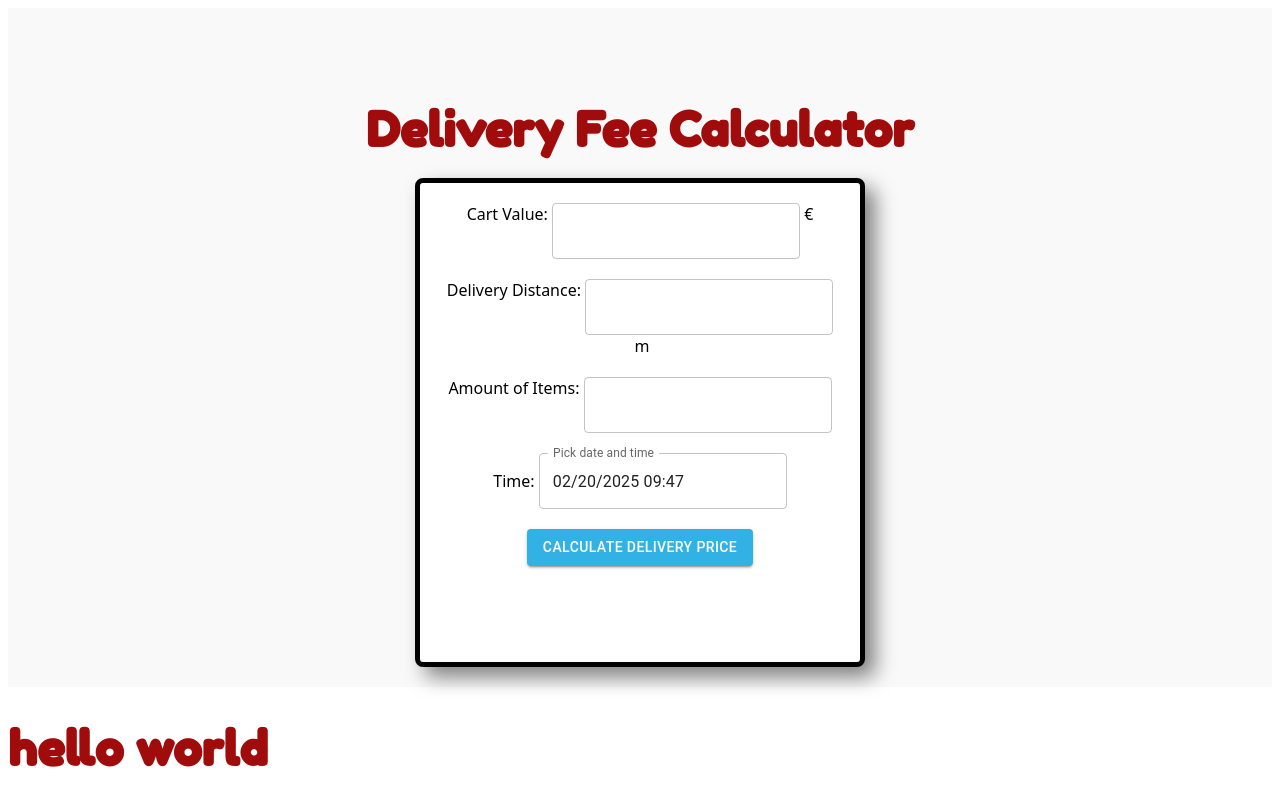
Delivery Fee Calculator Tests › shows error messages for invalid inputs
The width and height of the screenshot is (1280, 800).
Type "9999999" into the element with test id "cart-value" next to "Cart Value:". click: coordinates (676, 231)
box: [552, 203, 800, 259]
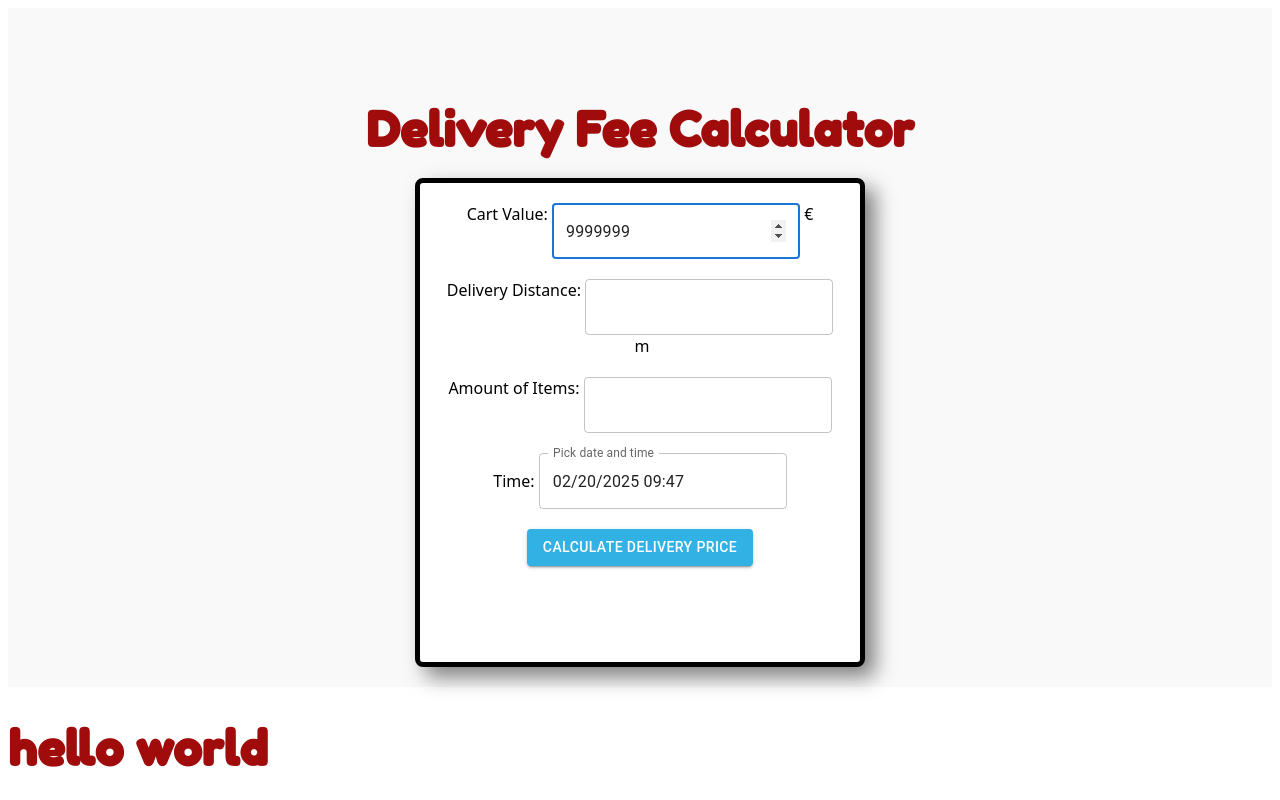
Click the element that starts with "Delivery Fee Calculator". click: coordinates (8, 8)
box: [8, 8, 1272, 799]
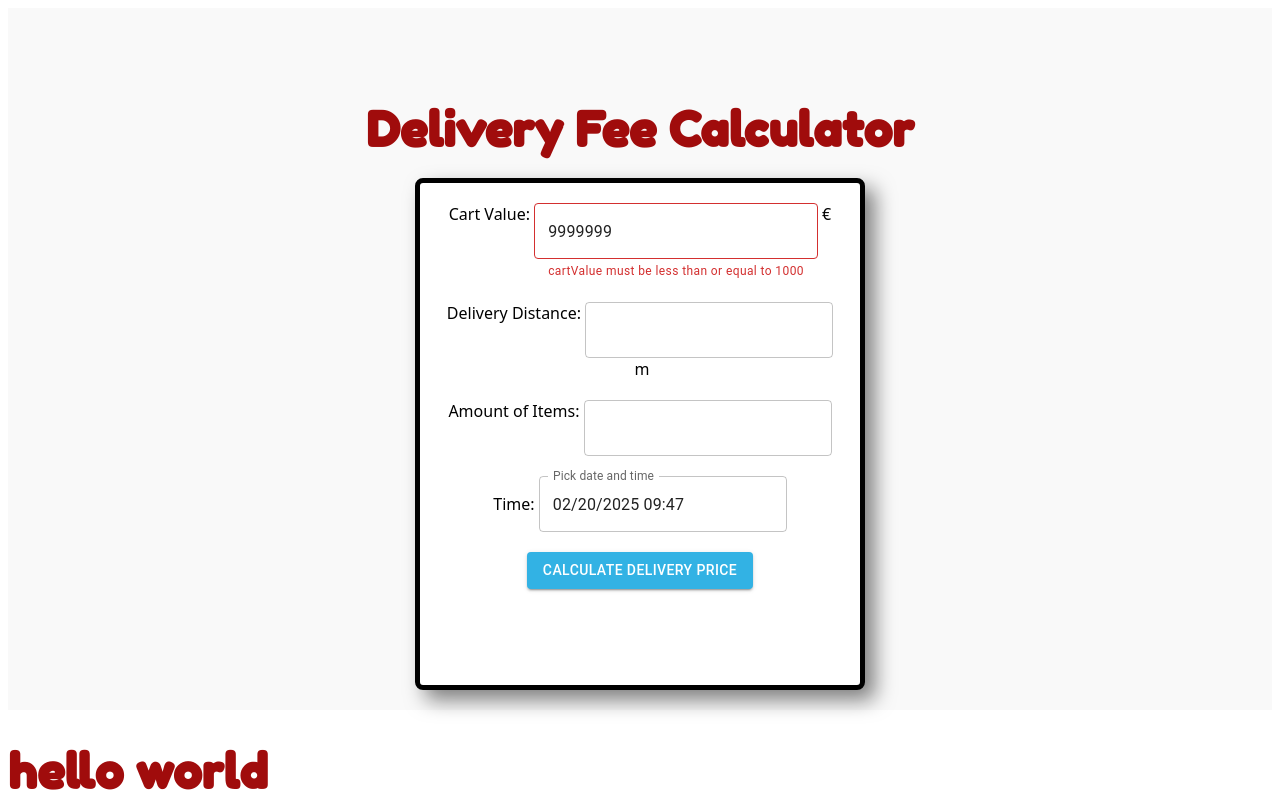
Check: the text "cartValue must be less than or equal to 1000" is shown, box [548, 262, 804, 282]
Type "12000" into the element with test id "delivery-distance" next to "Delivery Distance:". click: coordinates (709, 330)
box: [585, 302, 833, 358]
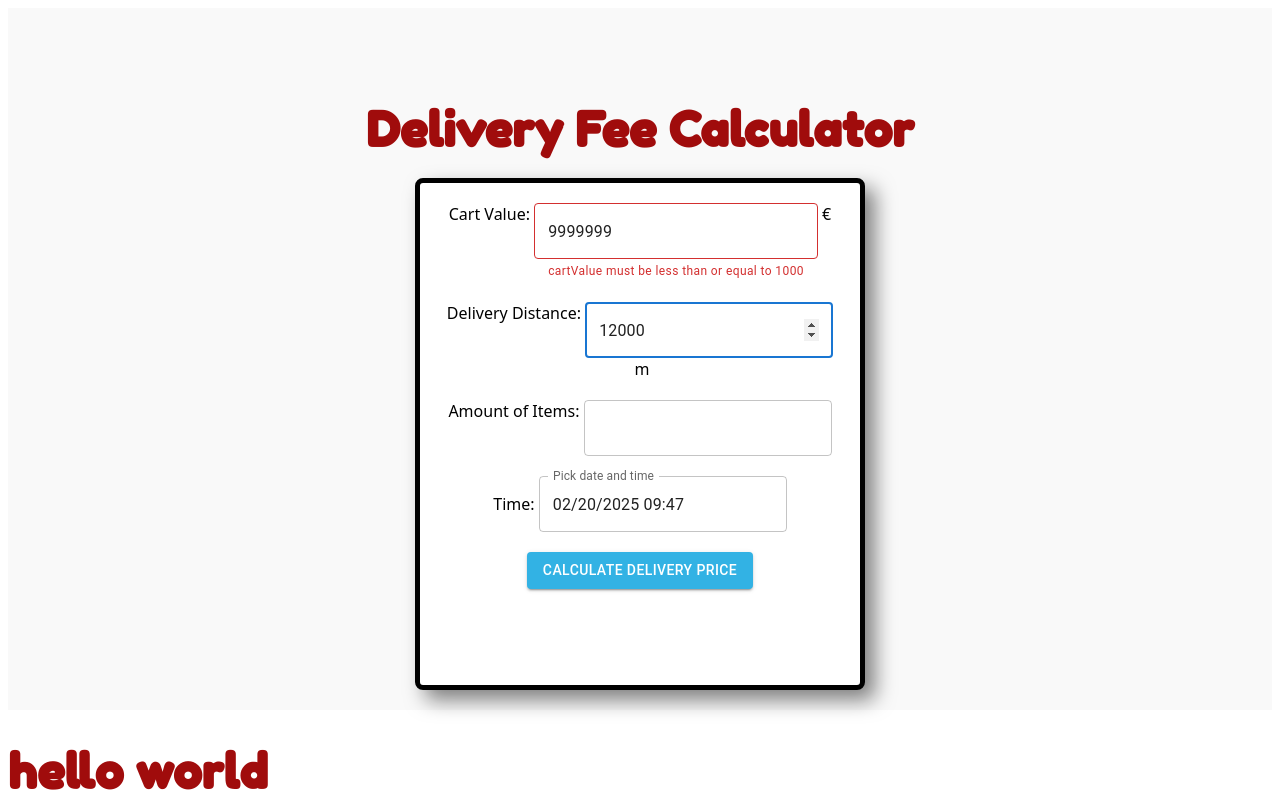
Click the element that starts with "Delivery Fee Calculator". click: coordinates (8, 8)
box: [8, 8, 1272, 799]
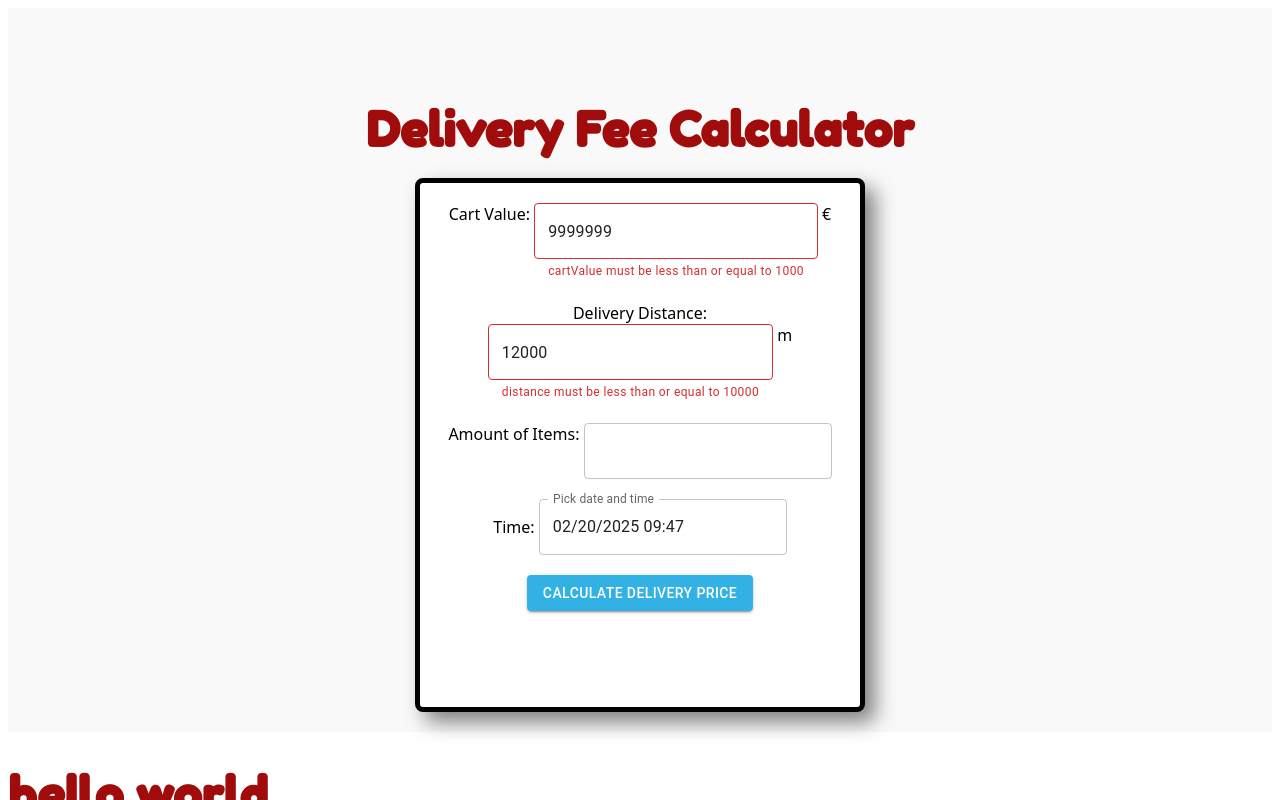
Check: the text "distance must be less than or equal to 10000" is shown, box [502, 383, 759, 403]
Type "30" into the element with test id "amount-of-items" next to "Amount of Items:". click: coordinates (708, 451)
box: [584, 423, 832, 479]
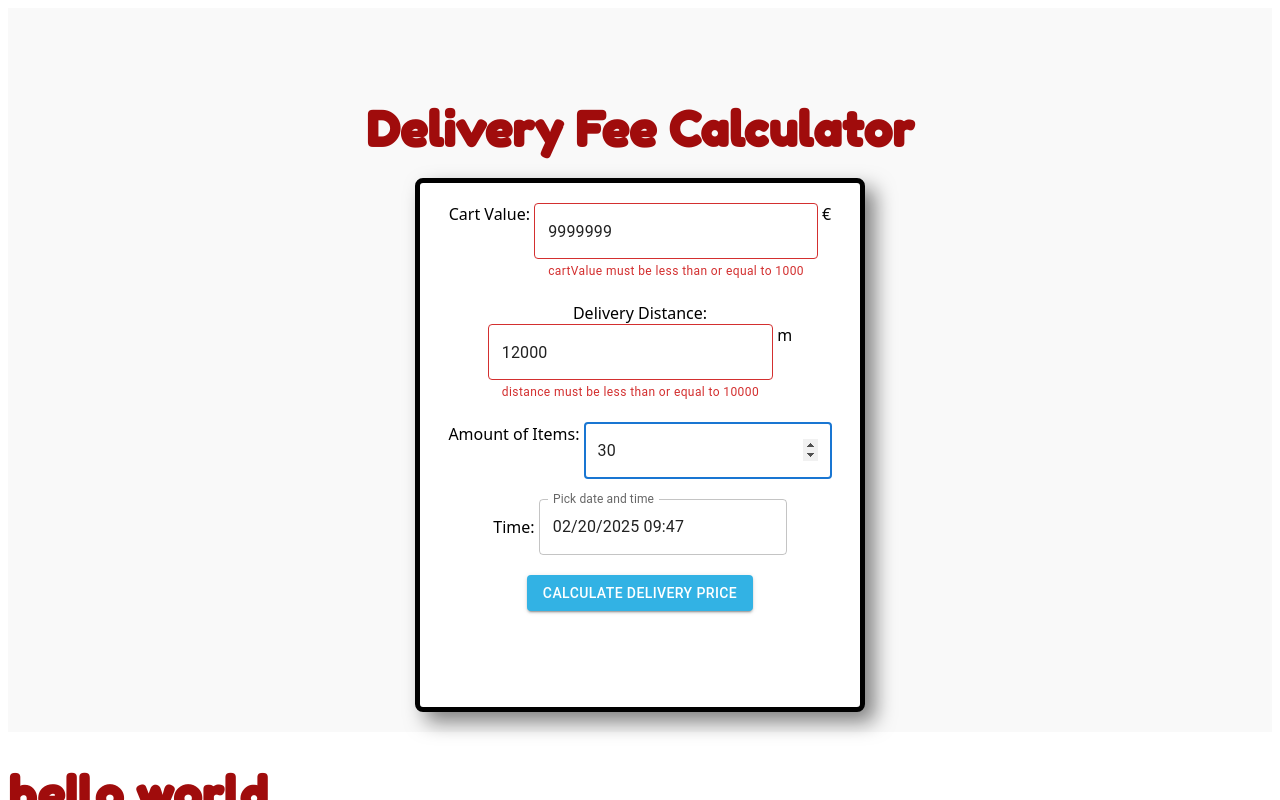
Click the element that starts with "Delivery Fee Calculator". click: coordinates (8, 8)
box: [8, 8, 1272, 799]
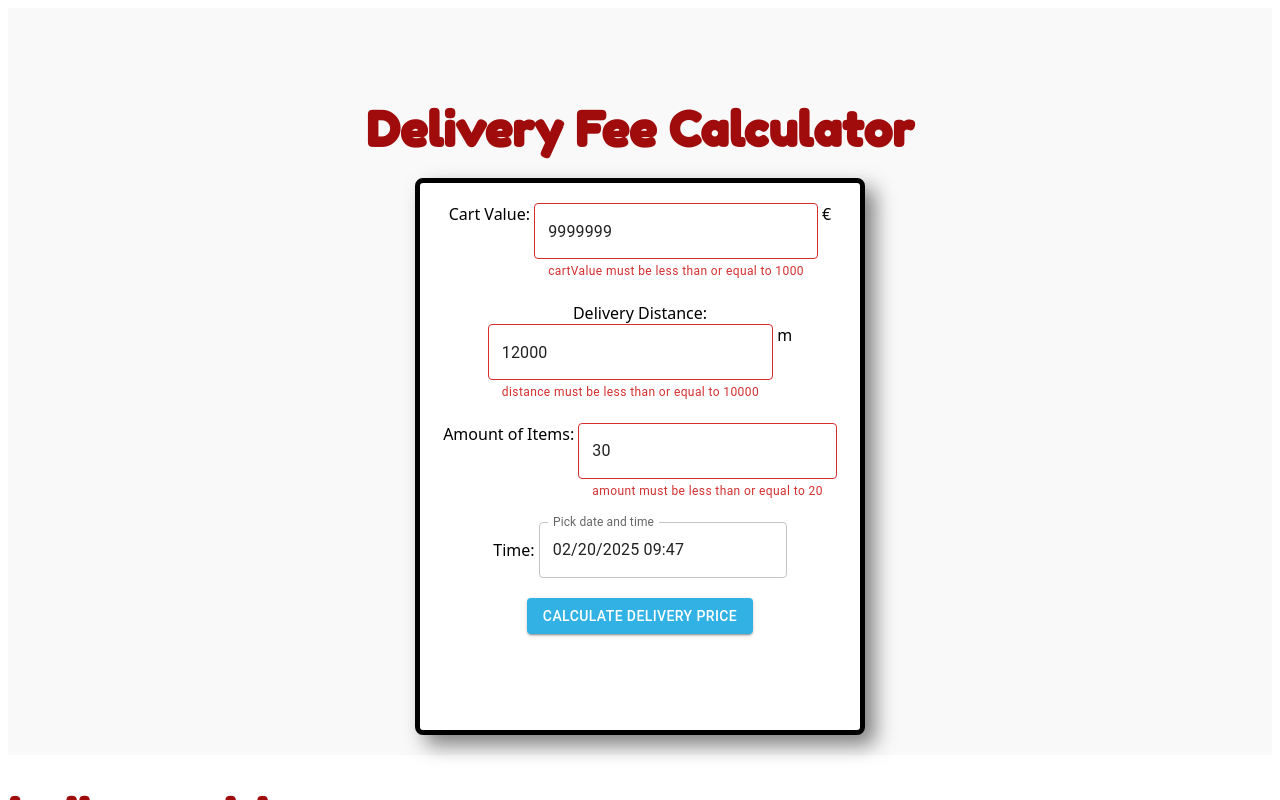
Check: the text "amount must be less than or equal to 20" is shown, box [592, 482, 823, 502]
